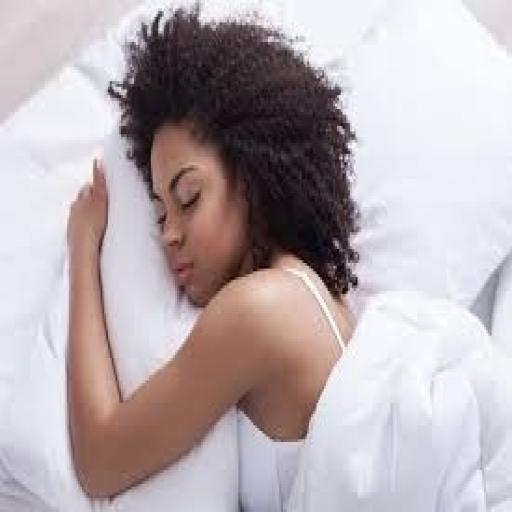sleeping: (26, 0, 496, 512)
